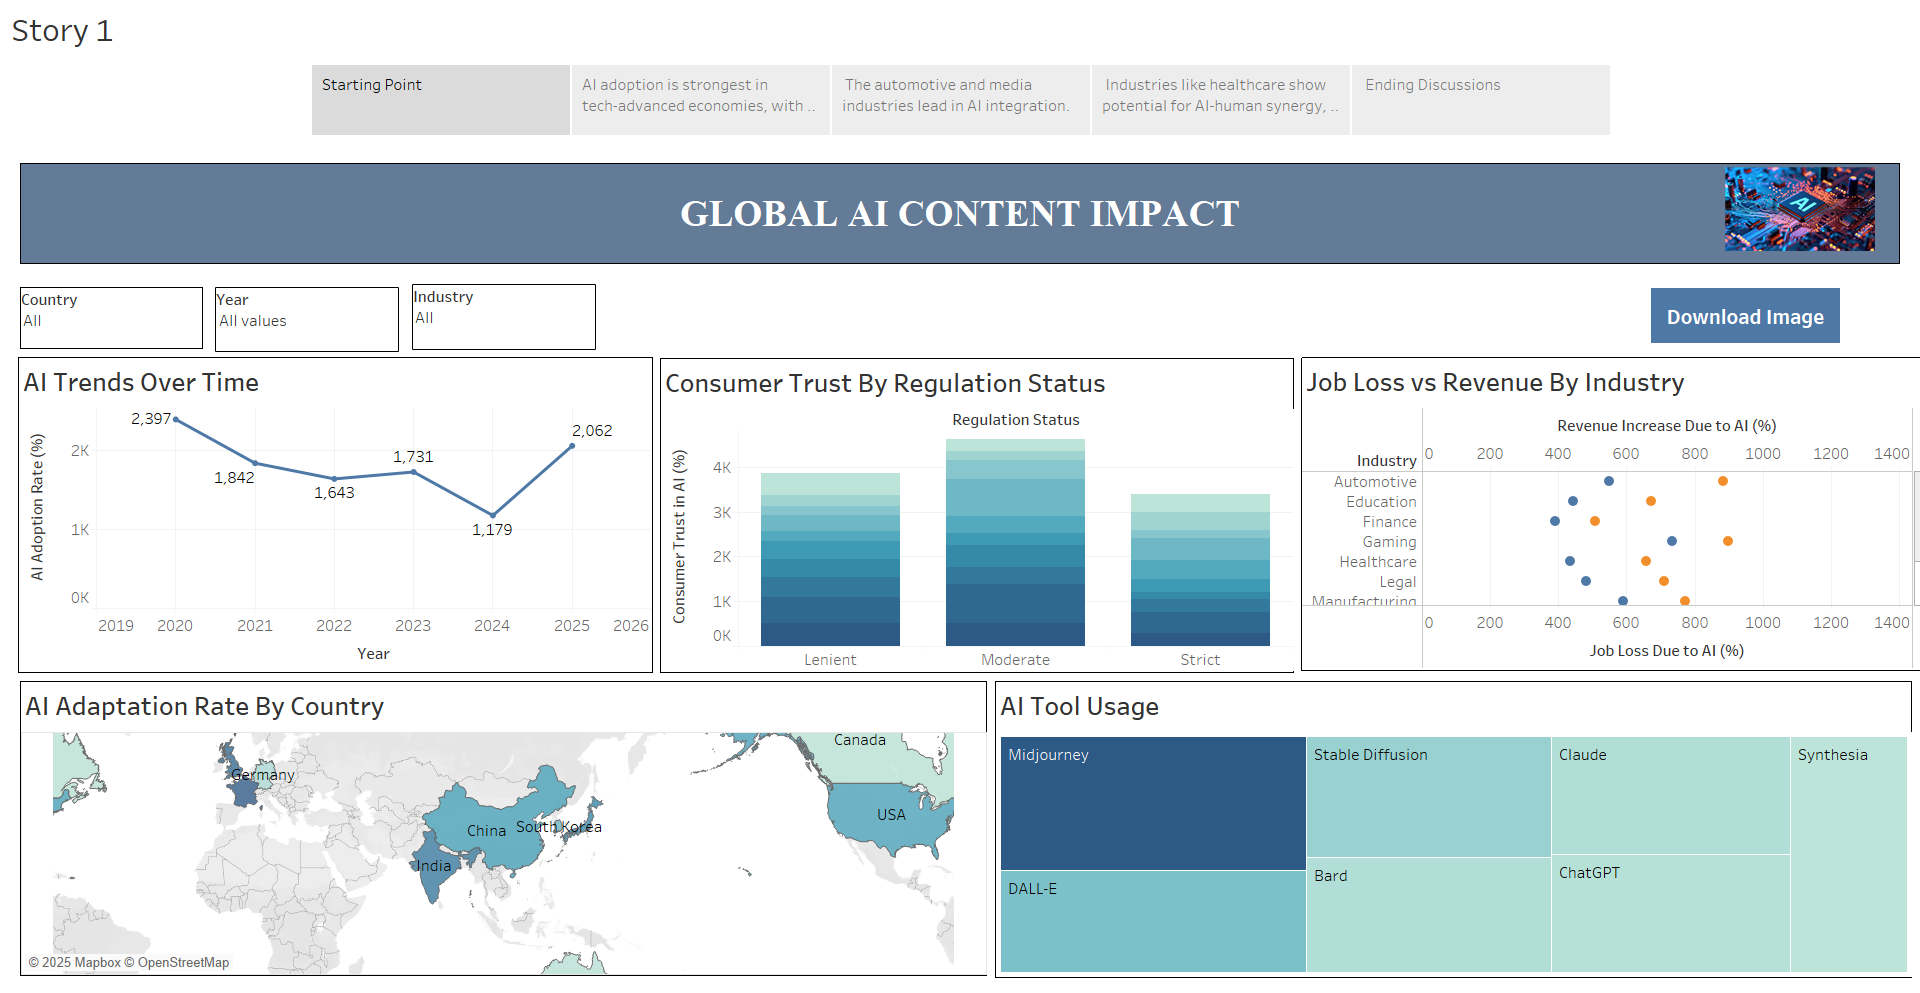

The dashboard page shown, as its layout file describes it:
{"tool":"tableau","page":{"name":"Dashboard 1","canvas":[1000,1000],"units":"permille","ordinal":0},"visuals":[{"type":"title","box":[4.8,10,990.3,136.1]},{"type":"image","param":"Image/AI Image.jpg","box":[901.6,18.7,89.3,101.1]},{"type":"filter","title":"AI trends over time","param":"[federated.0b7zuio0kv5jrt15gwph313jt52r].[none:Industry:nk]","box":[212.4,159.8,96.6,78.7]},{"type":"filter","title":"AI adaptation rate by country","param":"[federated.0b7zuio0kv5jrt15gwph313jt52r].[none:Country:nk]","box":[6,163.6,96.6,73.7]},{"type":"filter","title":"AI trends over time","param":"[federated.0b7zuio0kv5jrt15gwph313jt52r].[none:Year:qk]","box":[108.6,163.6,96.6,77.4]},{"type":"worksheet","title":"AI trends over time","mark":"Automatic","rows":["AI Adoption Rate (%)"],"cols":["Year"],"box":[5.4,247.2,333.1,378.3]},{"type":"worksheet","title":"consumer trust by regulation status","mark":"Automatic","rows":["Consumer Trust in AI (%)"],"cols":["Regulation Status"],"box":[342.2,248.4,333.1,377]},{"type":"worksheet","title":"AI adaptation rate by country","mark":"Automatic","box":[6,635.5,508.2,353.3]},{"type":"worksheet","title":"AI Tool usage","mark":"Automatic","box":[518.4,635.5,481.6,355.8]}]}

Visuals, with their boxes on the dashboard's canvas, which has no fixed pixel size, in thousandths of its width and height (x1, y1, x2, y2). These are canvas units, not pixel positions in the 1920x993 screenshot, which may show the page scaled, cropped or inside an application window:
title: crop(5, 10, 995, 146)
image: crop(902, 19, 991, 120)
"AI trends over time" filter: crop(212, 160, 309, 238)
"AI adaptation rate by country" filter: crop(6, 164, 103, 237)
"AI trends over time" filter: crop(109, 164, 205, 241)
"AI trends over time" worksheet: crop(5, 247, 338, 626)
"consumer trust by regulation status" worksheet: crop(342, 248, 675, 625)
"AI adaptation rate by country" worksheet: crop(6, 636, 514, 989)
"AI Tool usage" worksheet: crop(518, 636, 1000, 991)
